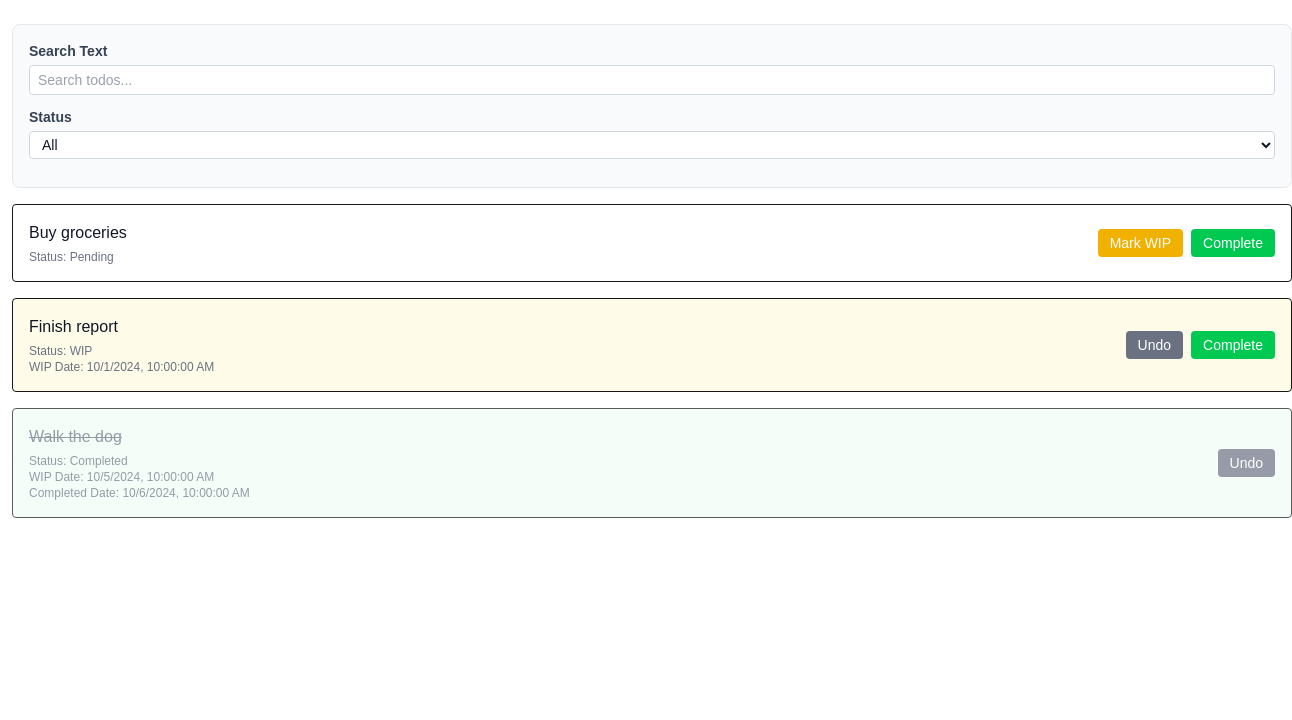
TodoList filtering › filters by WIP date range
The width and height of the screenshot is (1292, 720).
Select "WIP" in the dropdown with test id "filter-status": (652, 145) [29, 131, 1275, 159]
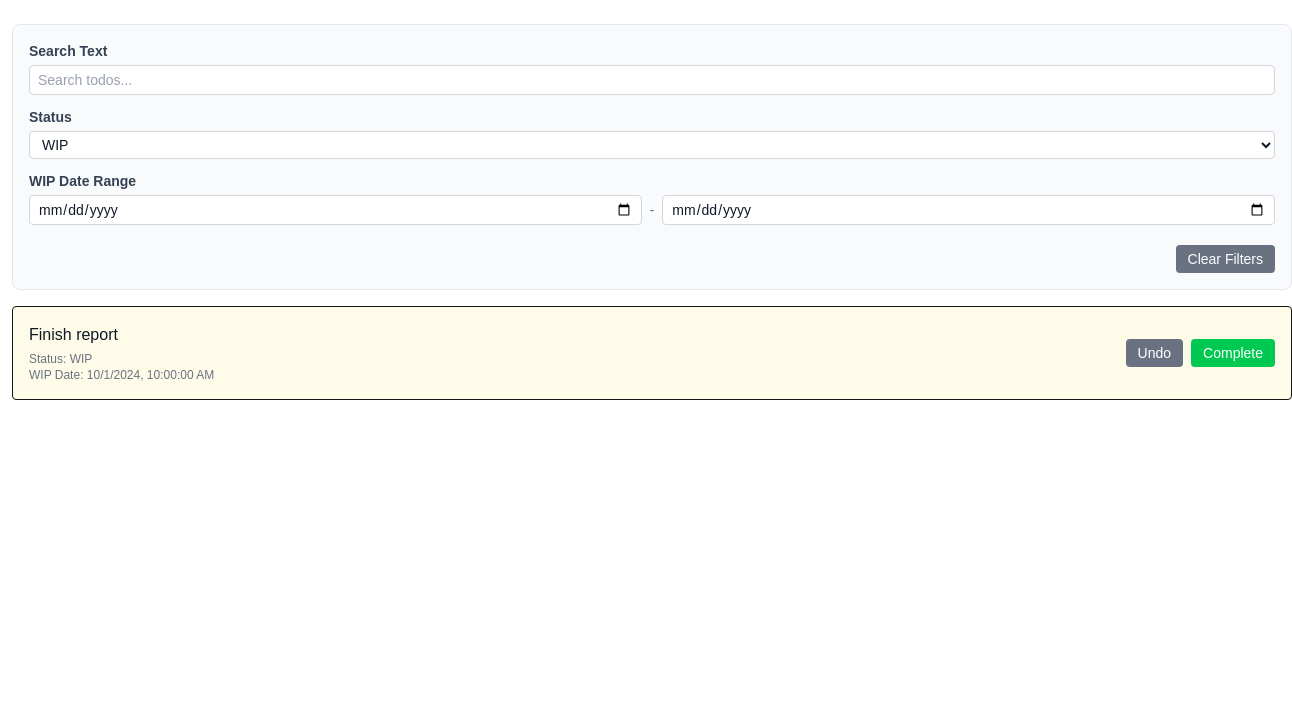
In the date field with test id "filter-wip-start": (335, 210) [29, 195, 642, 225], type "2024-10-02"
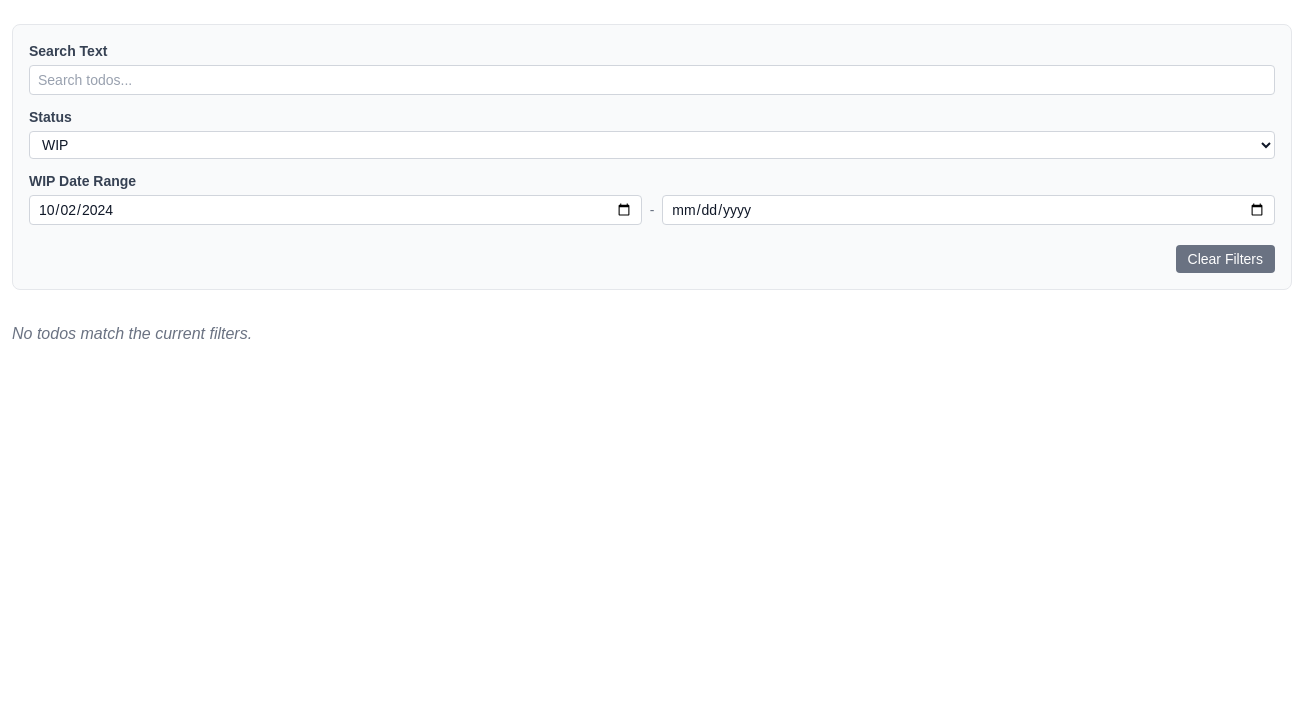
Expected: the text "No todos match the current filters." is shown, [12, 325, 252, 342]
If start is Sep 30, it should be shown
In the date field with test id "filter-wip-start": (335, 210) [29, 195, 642, 225], type "2024-09-30"
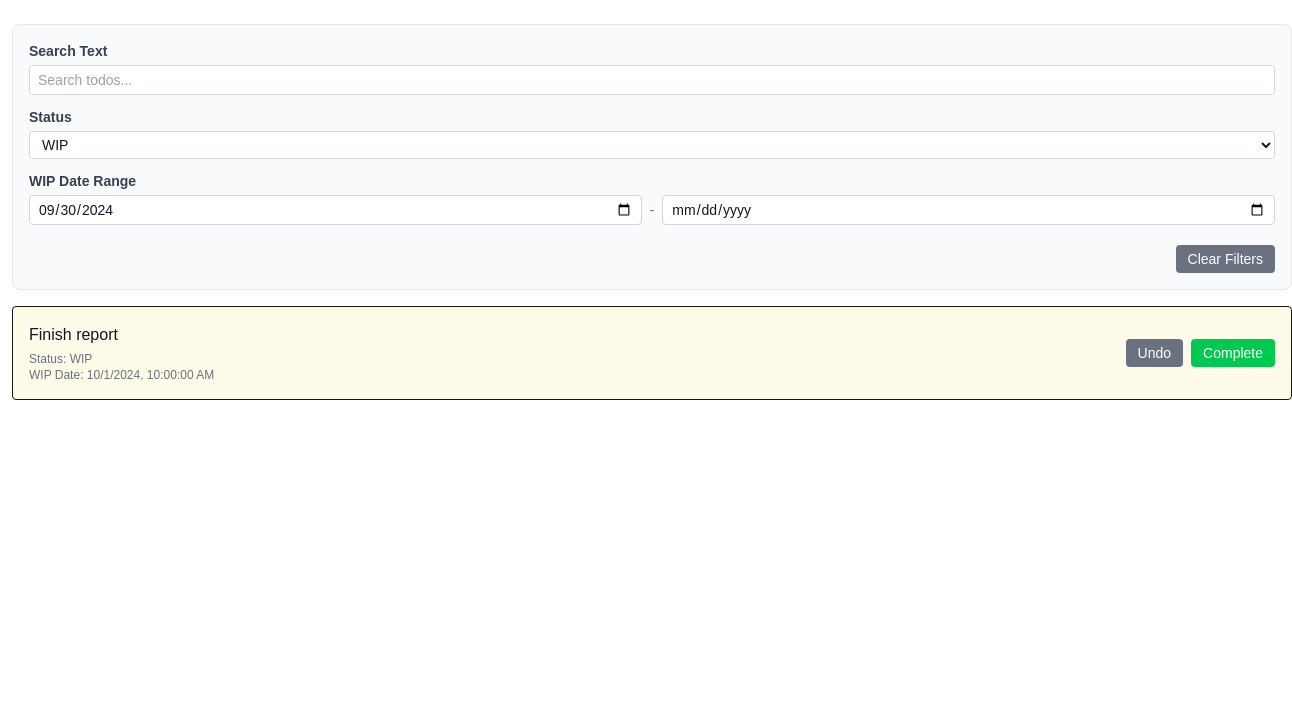
Expected: the element with test id "todo-item-2" is shown, [12, 306, 1291, 400]
If end is Sep 30 (before Oct 1), it shouldn't match
In the date field with test id "filter-wip-end": (969, 210) [662, 195, 1275, 225], type "2024-09-30"
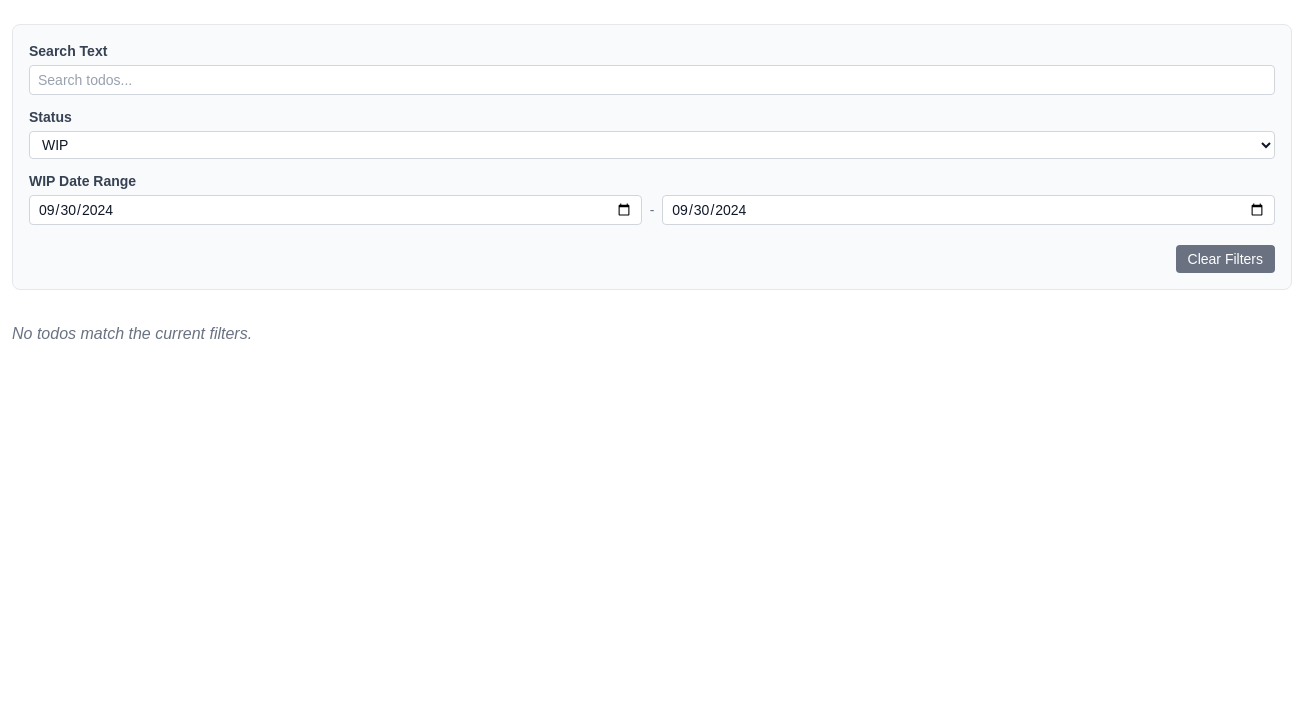
Expected: the text "No todos match the current filters." is shown, [12, 325, 252, 342]
